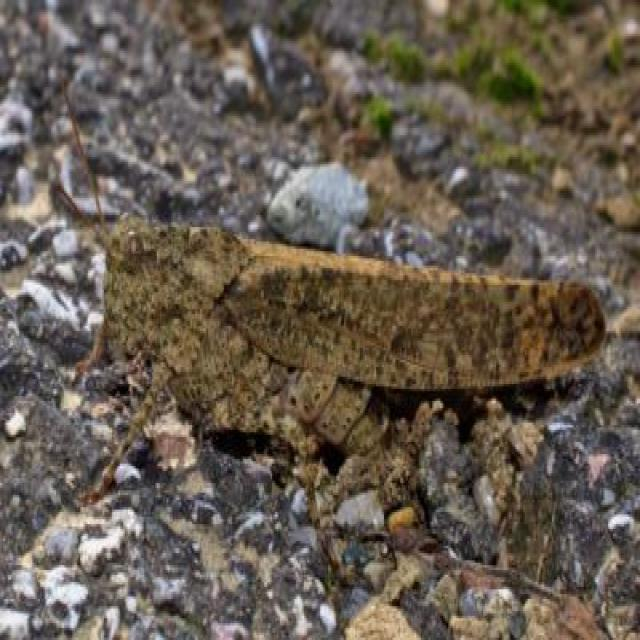antennae: (65, 87, 106, 225), (59, 186, 105, 247)
body: (106, 210, 456, 436)
insect: (50, 87, 606, 543)
legs: (198, 392, 326, 544), (83, 375, 169, 501)
mouthpart: (103, 301, 151, 365)
wings: (224, 234, 598, 391)
